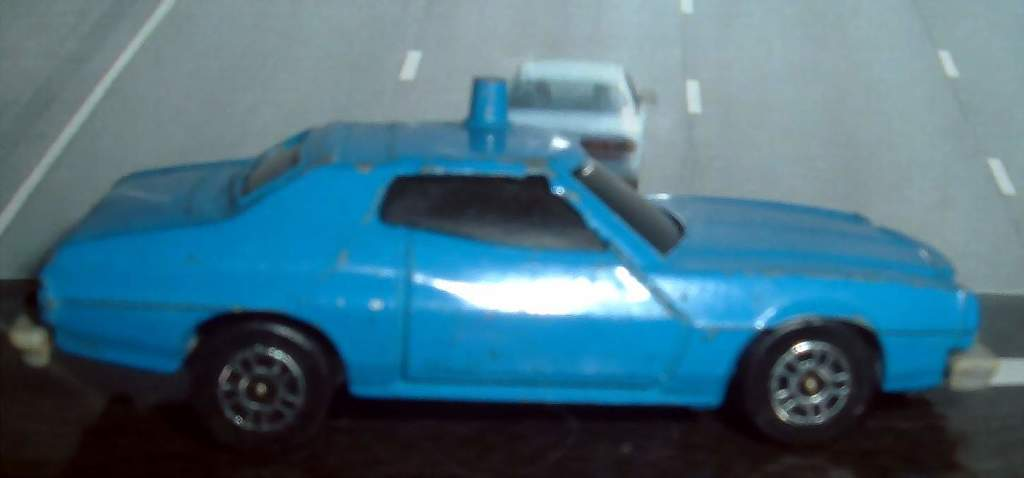Car: (20, 76, 992, 450), (499, 58, 646, 196)
